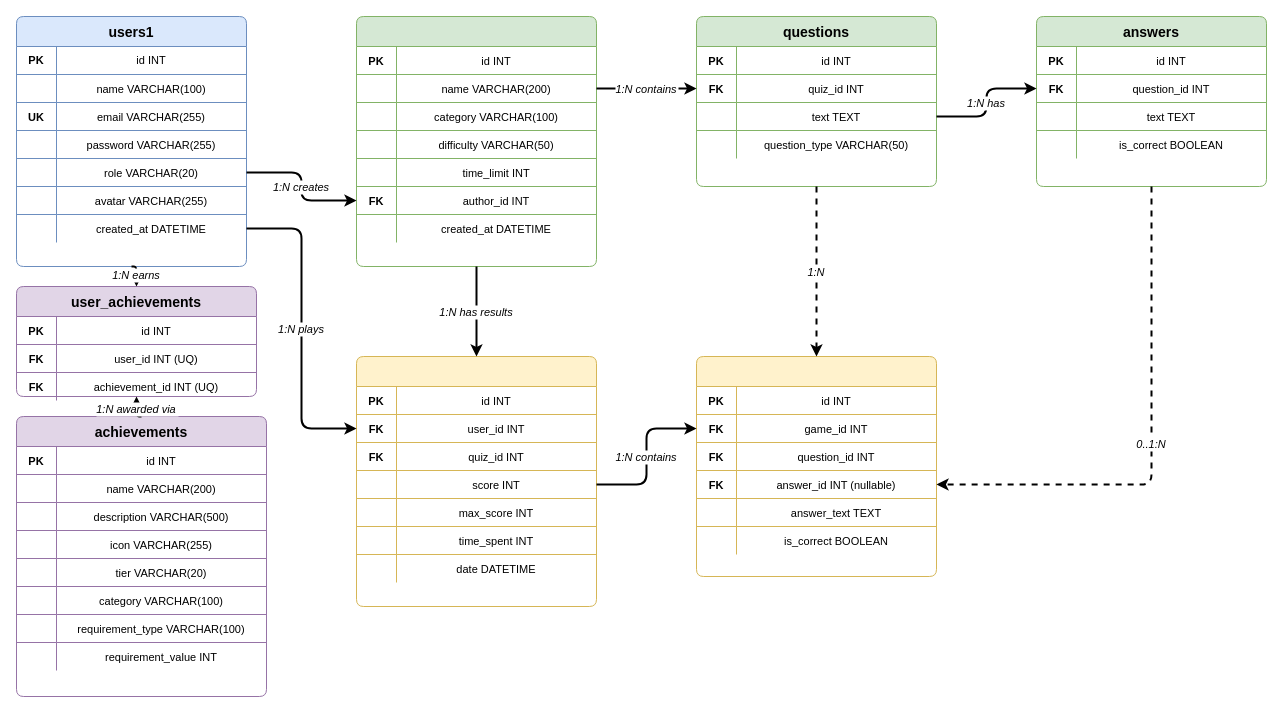
This 1283x713 diagram has some shape labels left out. Here are the shapes that lost their labels. From the top down, the box of each, then its label:
(356, 16, 596, 266): quizzes
(356, 356, 596, 606): game_results
(696, 356, 936, 576): user_answers
